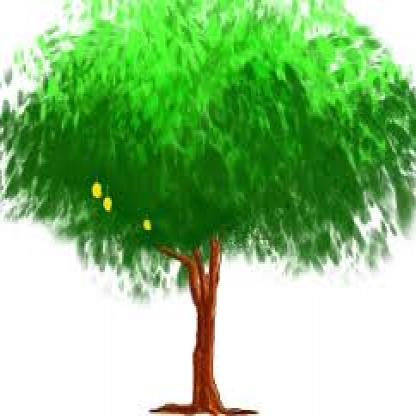branch_cut: (156, 243, 222, 307)
crown_dizzy: (1, 1, 414, 298)
trunk_bark: (187, 291, 221, 389)
